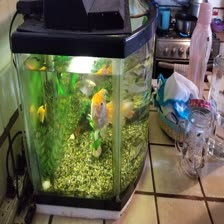Cuezo: (82, 89, 115, 133)
